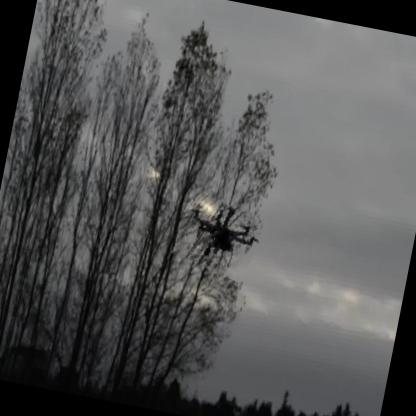drone: (172, 194, 267, 282)
